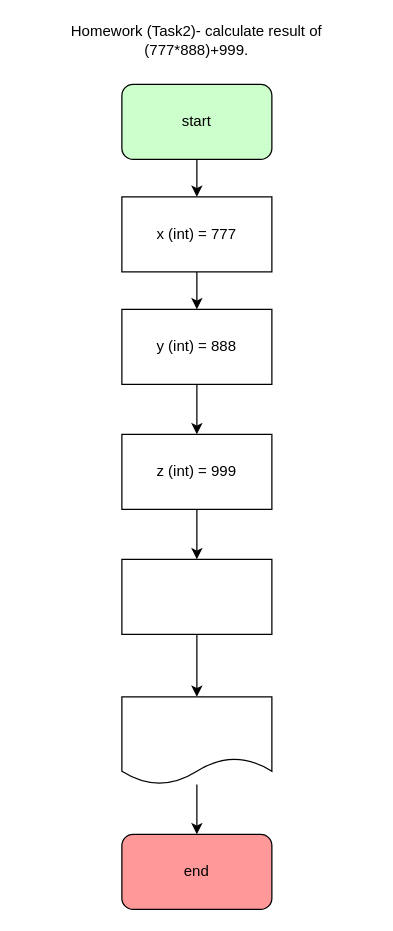
Image size: 393x931. Some labels were removed from this diagram. Here are the shapes that lost their labels. From the top down, the centre of each, then its label:
At [196,596]: "result (int)= x*y+z".
At [196,740]: "result".
